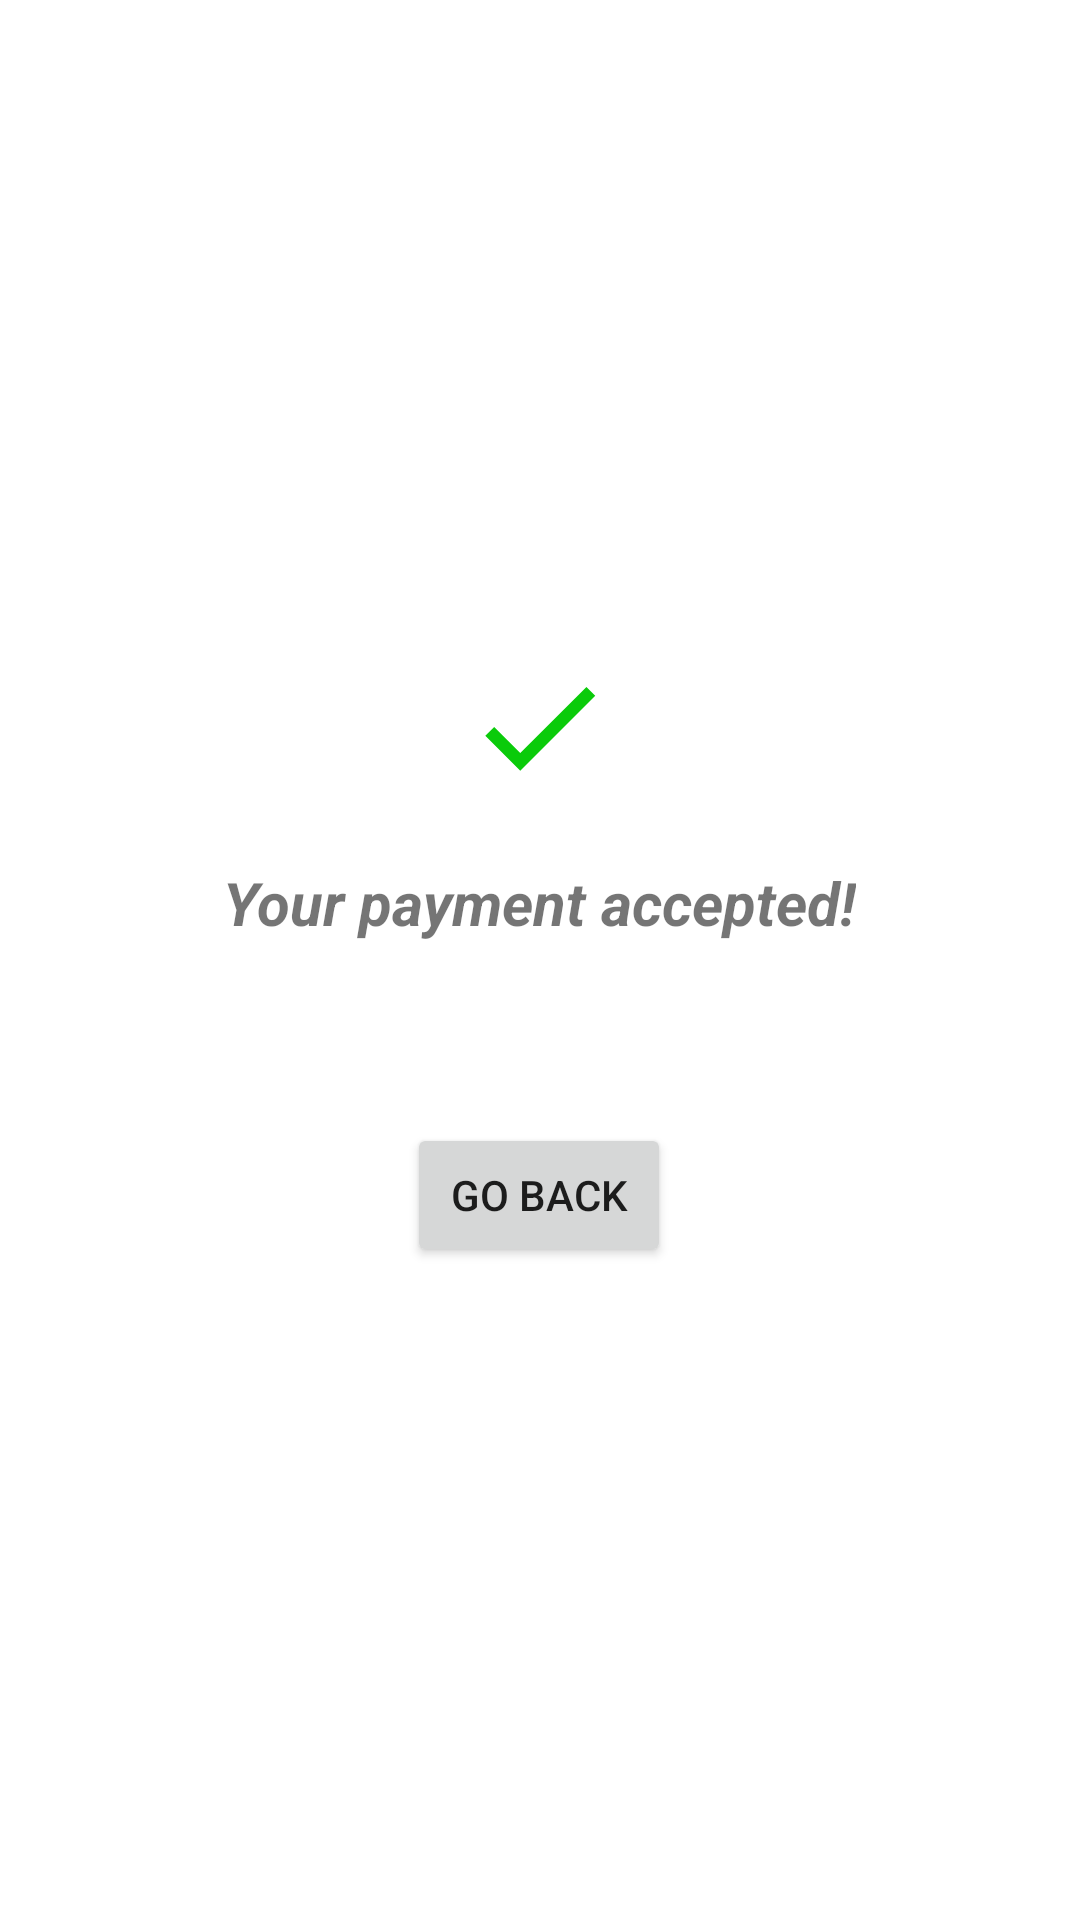

Icon click points for this 1080w x 1920h phone screenshot, format [x,y]:
check: [540,729]
